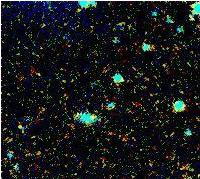star: (75, 100, 105, 130)
